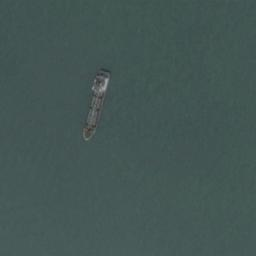boat: (82, 68, 111, 140)
